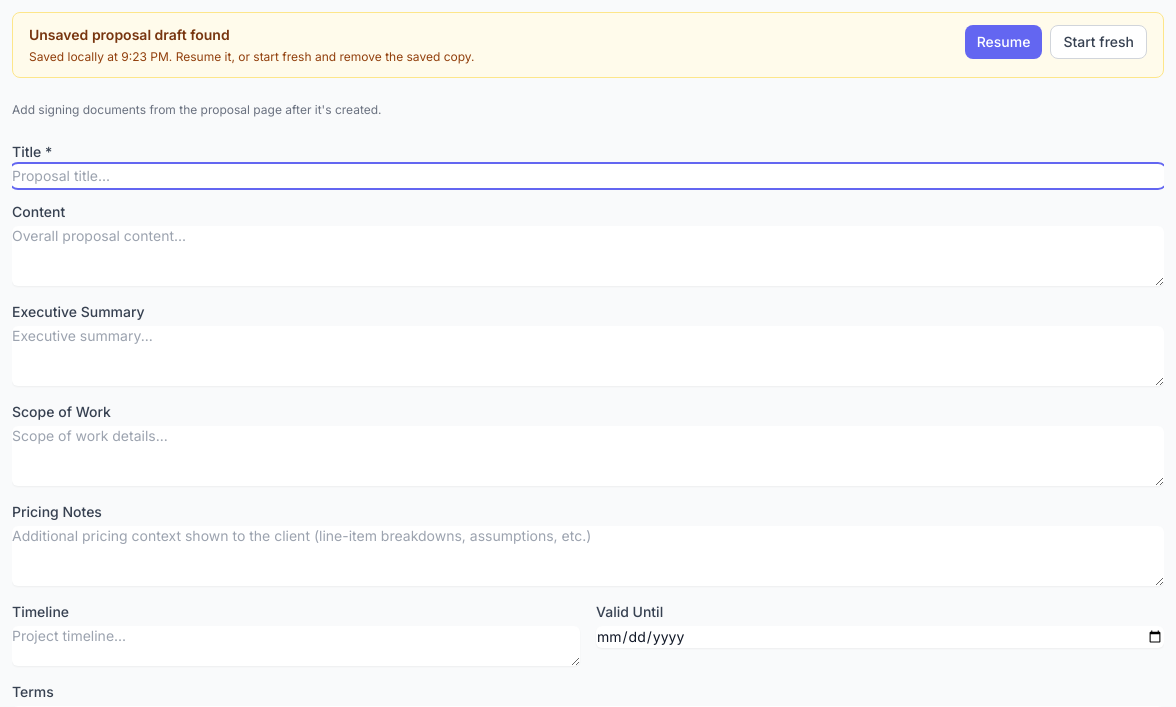
Test: ProposalForm local drafts › starts fresh when editing before resolving a saved draft prompt
This screenshot has width=1176, height=707.
Expected: the text "Unsaved proposal draft found" is shown, [29, 26, 230, 43]
Type "Fresh proposal" into the field labelled "Title *" at (588, 176), box [12, 166, 1164, 186]
Wait 600 ms
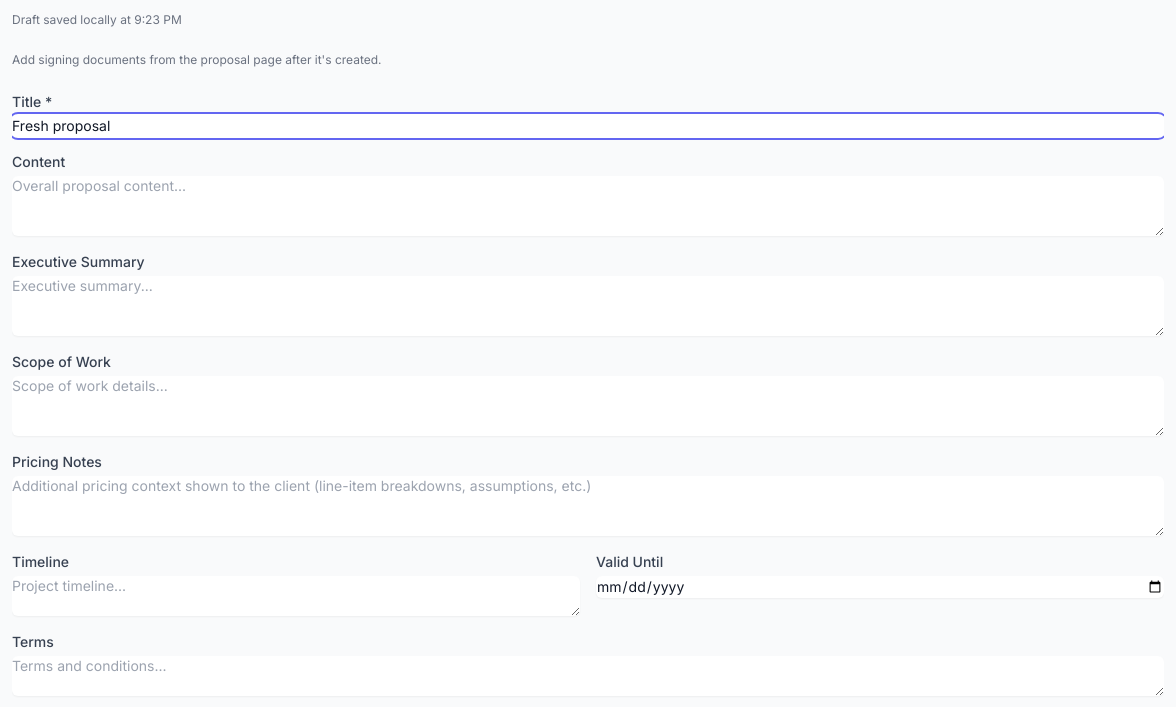
Expected: the text "Unsaved proposal draft found" is gone
